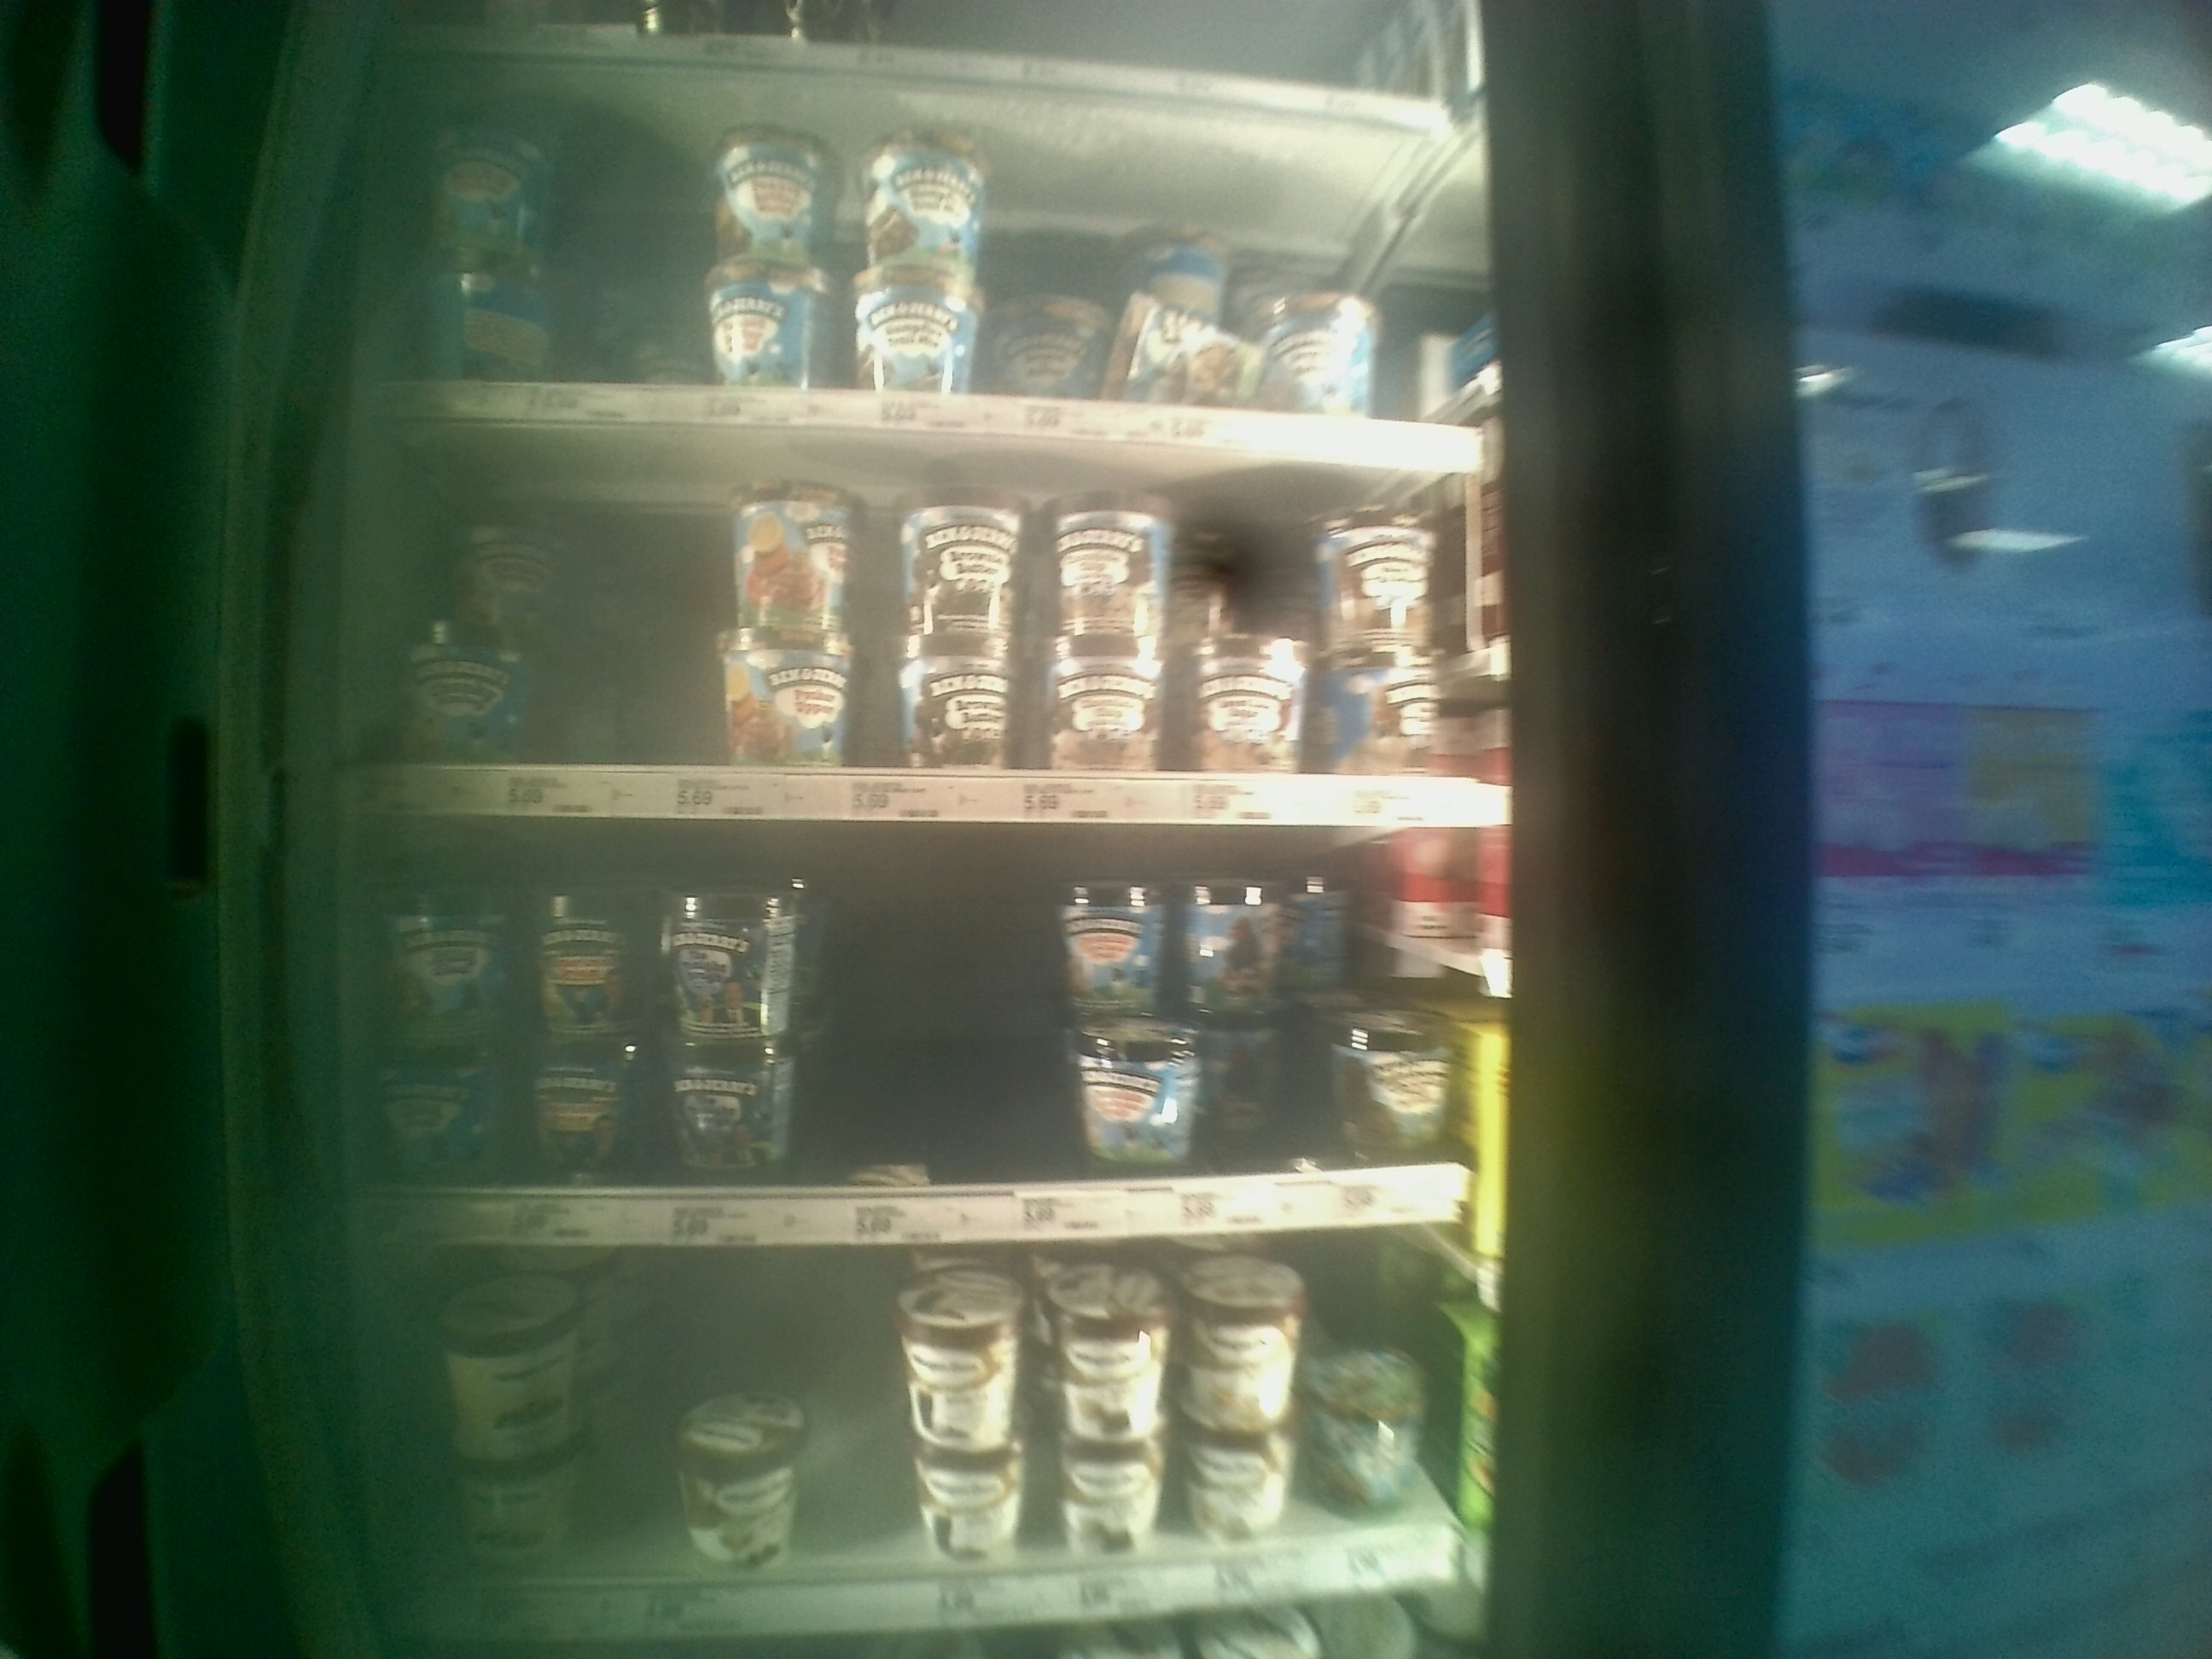ice-cream-shelf: (366, 812, 1505, 1239), (380, 425, 1505, 819)
